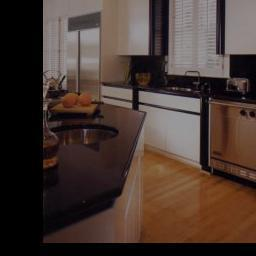Electrodomestico: (209, 99, 256, 190)
Lavaplatos: (47, 102, 125, 152), (158, 70, 211, 99)
